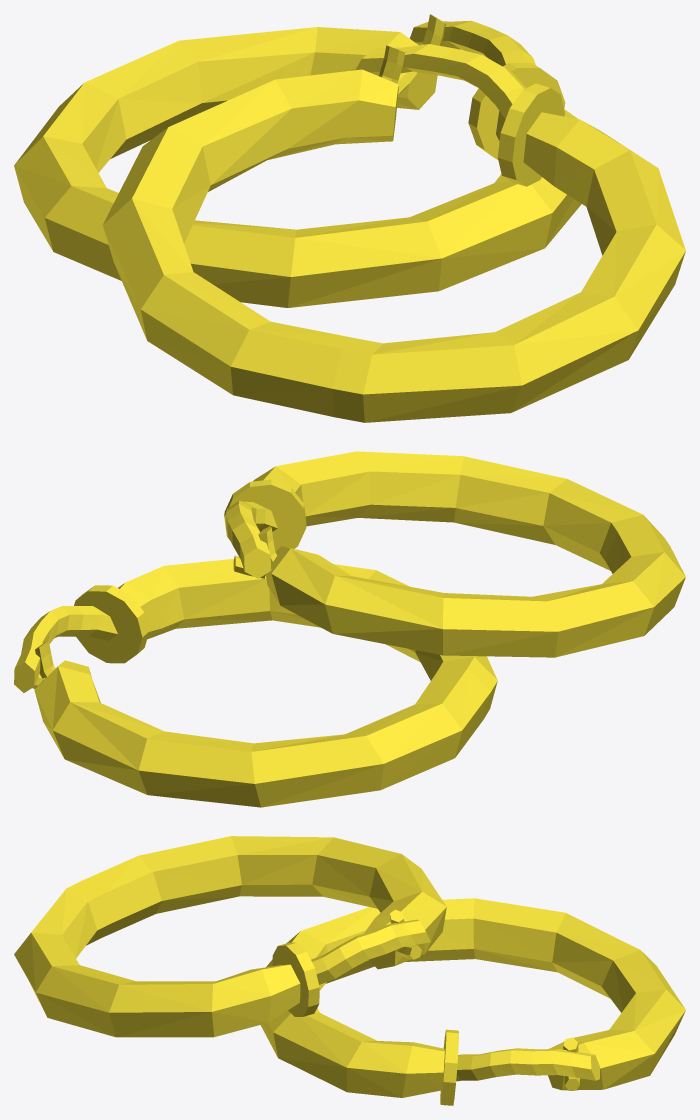
File: hoop-earrings.glb
3 renders of one model, top to bottom at view 1: azimuth 30°, elevation 25°; view 2: azimuth 150°, elevation 25°; view 3: azimuth 270°, elevation 25°, orthographic. The views are drawn at different scales.
Visible parts, largest first — view 1: Node; view 2: Node; view 3: Node.
Part boxes in pixels (bbox=[...]): Node: bbox=[14, 14, 685, 422]; Node: bbox=[14, 451, 685, 807]; Node: bbox=[14, 836, 685, 1105].
Bounding box in the file's own units: 0.3211 × 0.1038 × 0.4416.
